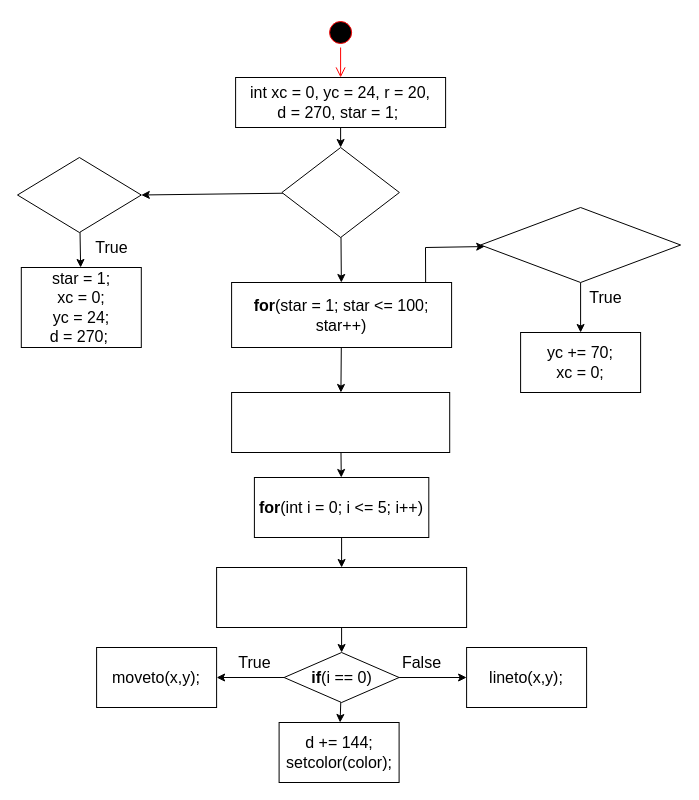
Some shapes in this 699 by 800 pixel diagram are drawn without their labels. Each missing label, with the box of its shape:
if (star % 10 == 1 && star != 1): (480, 206, 681, 282)
if (star == 101): (16, 156, 141, 232)
int x = xc + (int)(r * cos(d2r(d))); int y = yc + (int)(r * sin(d2r(d)));: (216, 566, 467, 628)
While (true): (281, 146, 399, 238)
xc += 70; int color = getRandomColor();: (231, 392, 450, 452)
